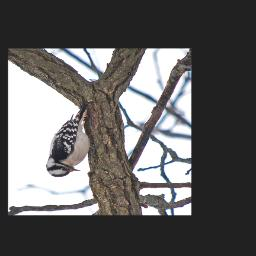Woodpecker: (46, 103, 101, 177)
